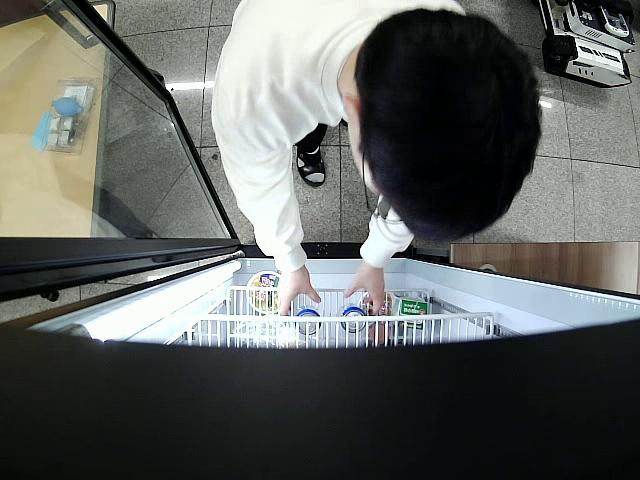00_hand: (276, 276, 322, 316), (344, 276, 385, 316)
13_pocariSweat: (294, 305, 321, 336), (340, 305, 367, 333)
